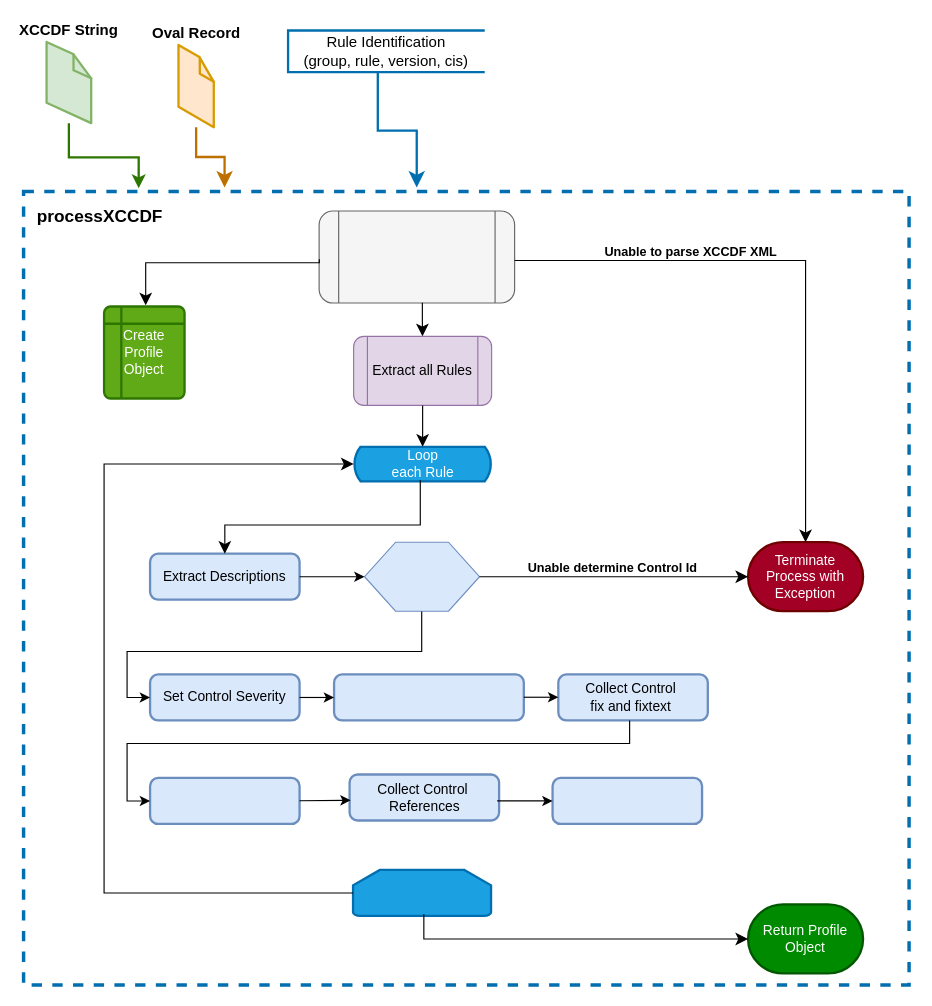
The diagram is 932 pixels wide and 1006 high, and some of its shapes have lost their labels. The centre of each missing label's shape, as x and y in pixels:
"Add Control To Profile Object" goes at (627,800).
"Collect Control Checks (include from oval if provided)" goes at (428,697).
"Collect Control Tags" goes at (224,800).
"Derive Control Identification to use" goes at (421,576).
"End Loop" goes at (421,892).
"Parse XCCDF (convert xccdf xml string into a Benchmark object)" goes at (416,256).
